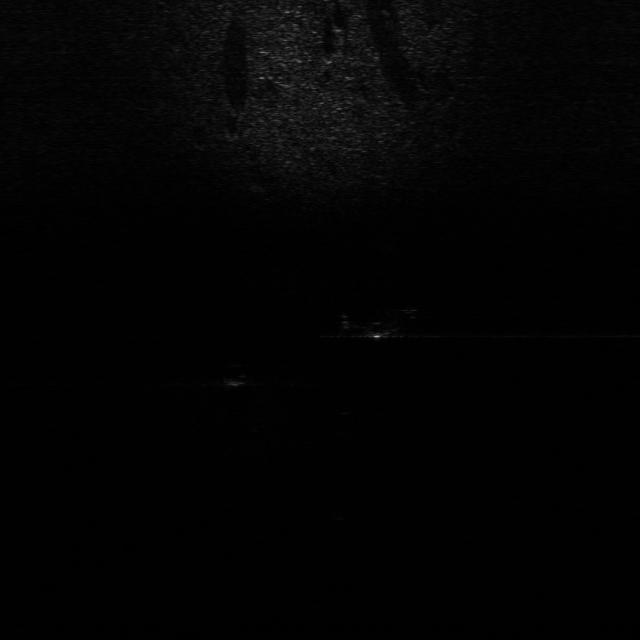ball: (217, 357, 258, 389)
human body: (334, 303, 427, 344)
